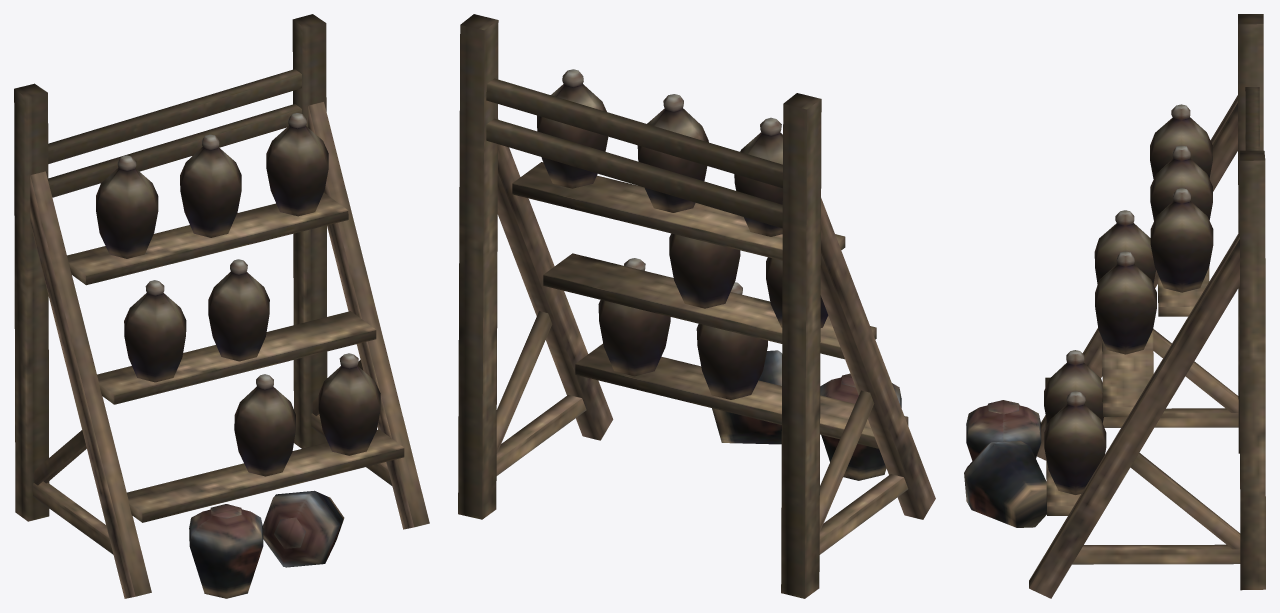
Rendered from ZaWu_All_Jiu02.FBX.
The picture shows the model from 3 angles, left to right: view 1: azimuth 30°, elevation 25°; view 2: azimuth 150°, elevation 25°; view 3: azimuth 270°, elevation 25°; orthographic projection. The views are drawn at different scales.
Parts seen in each view (by area): view 1: ZaWu_All_Jiu02; view 2: ZaWu_All_Jiu02; view 3: ZaWu_All_Jiu02.
Boxes of the visible parts, <box> form: ZaWu_All_Jiu02: <box>14,14,429,598</box>; ZaWu_All_Jiu02: <box>458,14,935,598</box>; ZaWu_All_Jiu02: <box>964,14,1265,598</box>.
Bounding box in the file's own units: 192 × 265 × 165.
